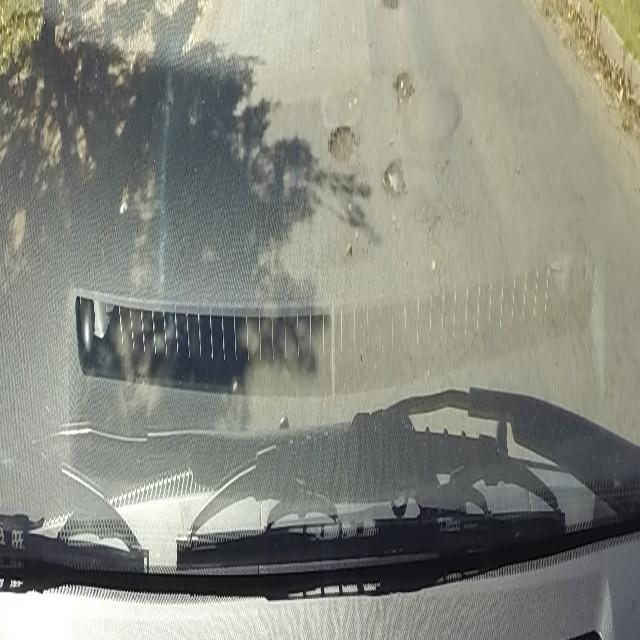pothole: (381, 147, 408, 200), (328, 118, 358, 158), (394, 64, 415, 109)
